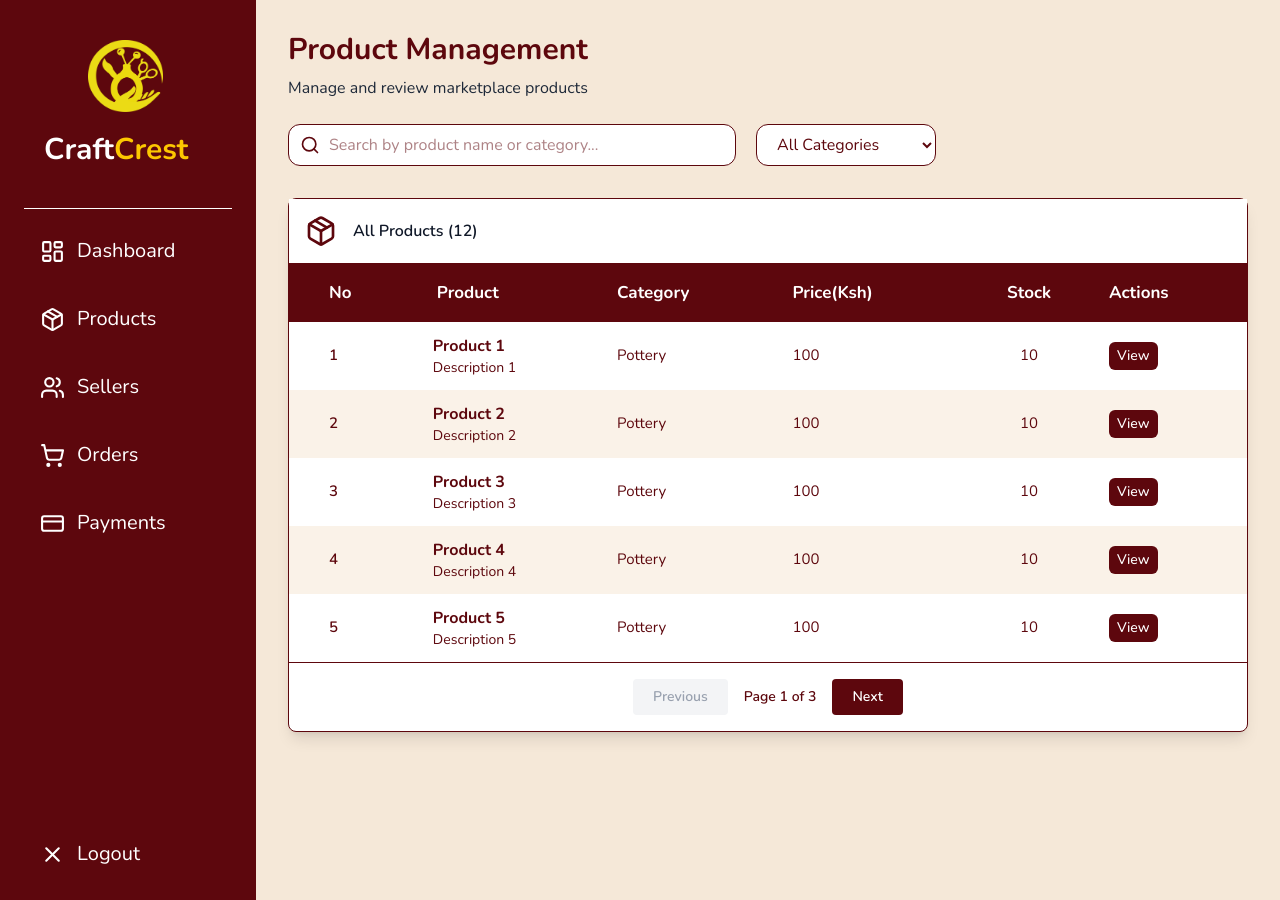
ProductManagement › Pagination › disables "Previous" on first page and "Next" on last page
Expected: the button "Previous" is disabled, [633, 678, 728, 714]
Step 1. Click the button "Next" → coordinates (868, 696), box [832, 678, 903, 714]
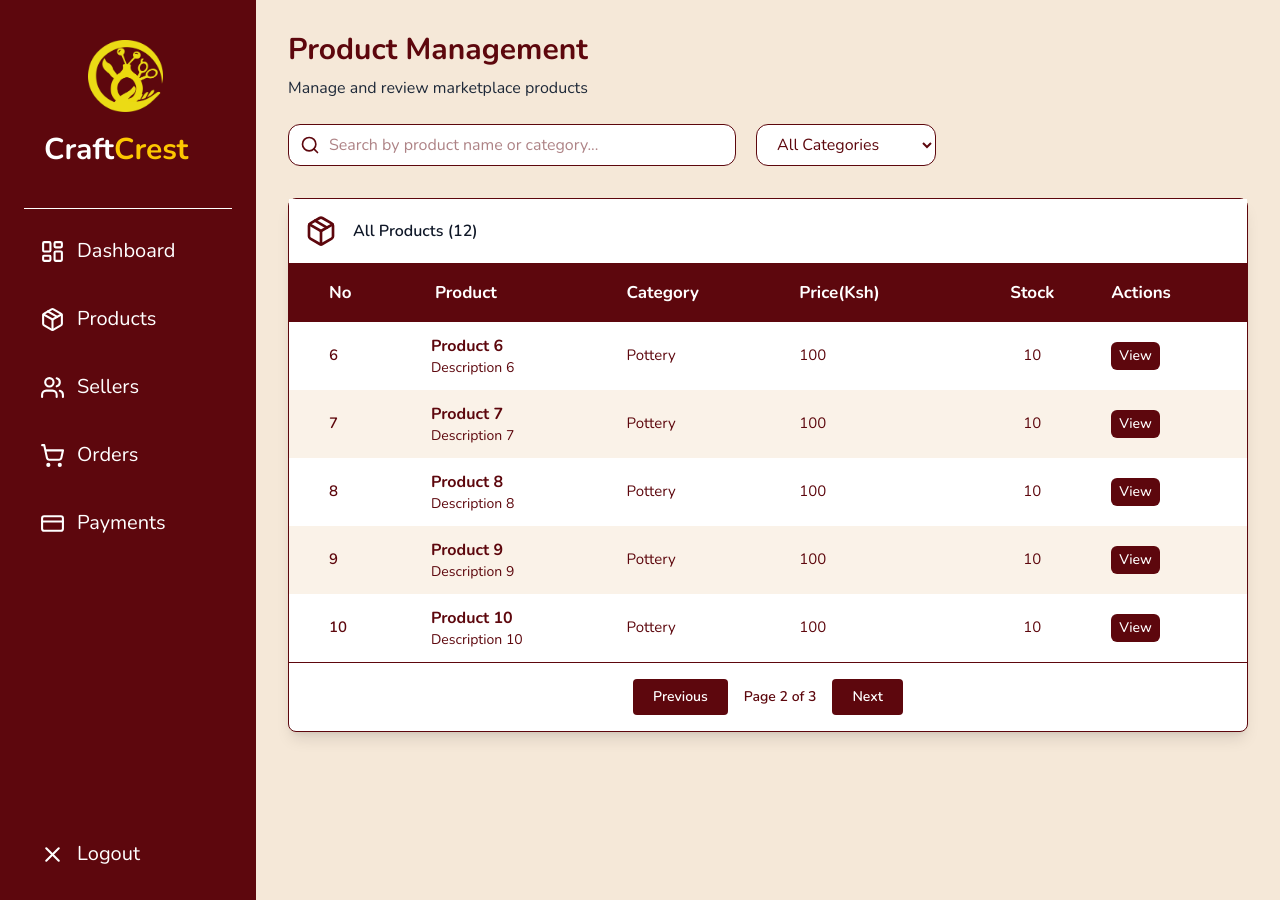
Step 2. Click the button "Next" → coordinates (868, 696), box [832, 678, 903, 714]
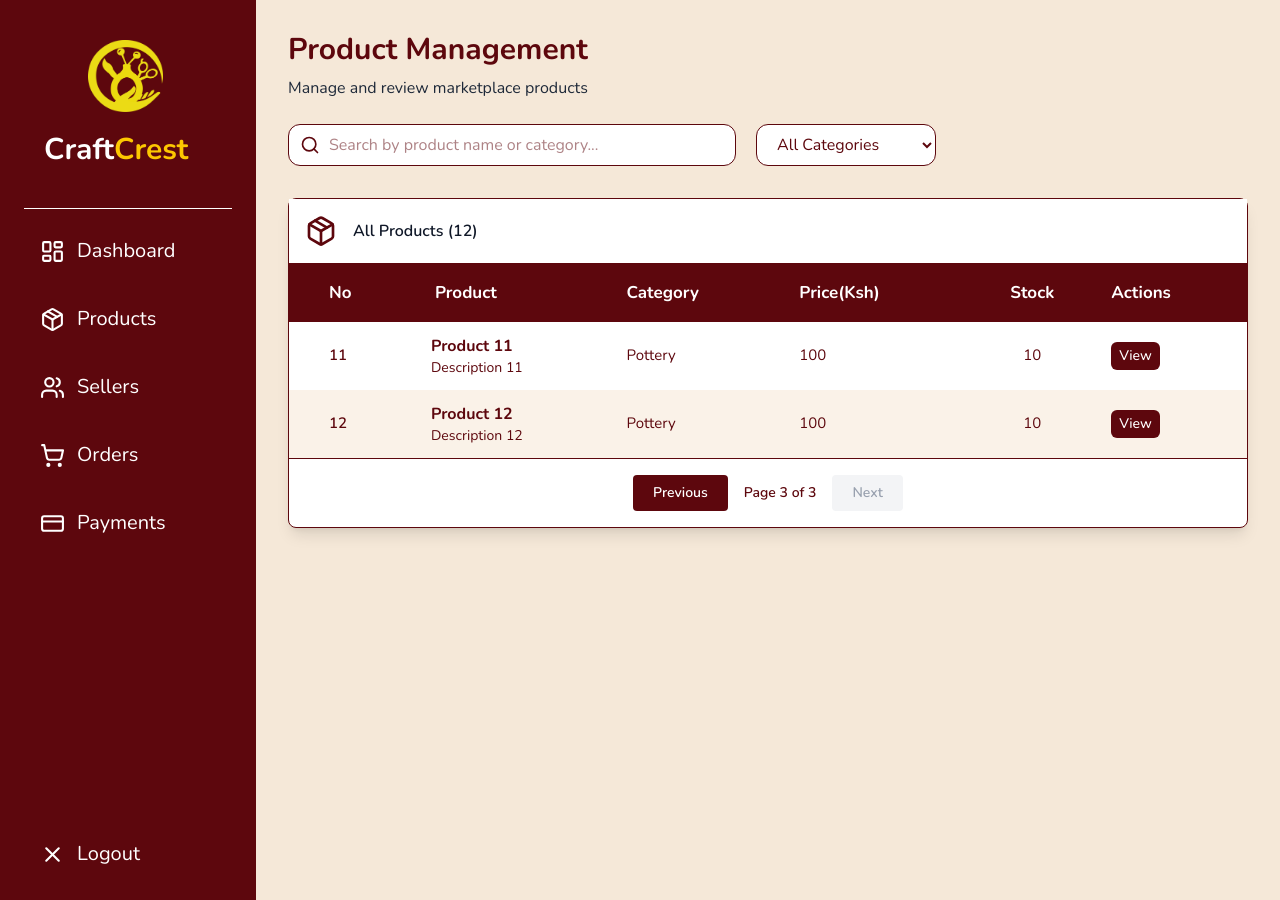
Now the button "Previous" is enabled, box [633, 474, 728, 510]
Now the text "Page 3 of 3" is shown, box [744, 482, 816, 502]
Now the button "Next" is disabled, box [832, 474, 903, 510]
